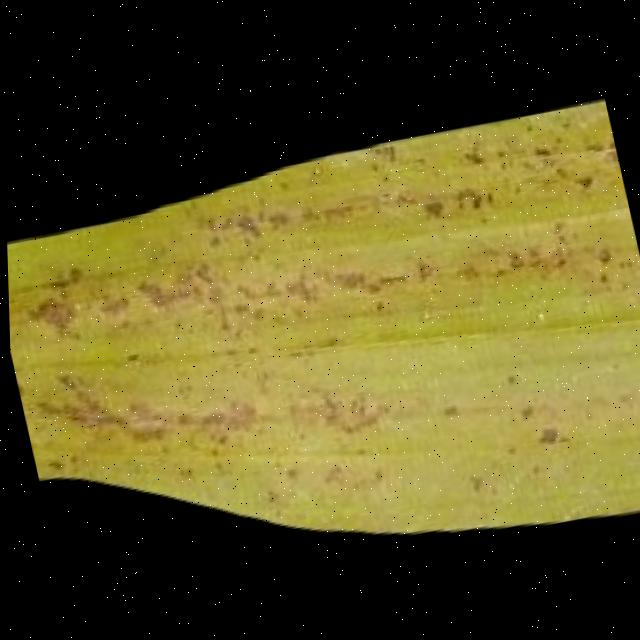mite: (5, 94, 640, 624), (376, 102, 640, 521), (413, 183, 496, 227), (530, 426, 559, 450), (591, 245, 613, 269), (512, 402, 533, 423), (570, 174, 593, 193)
